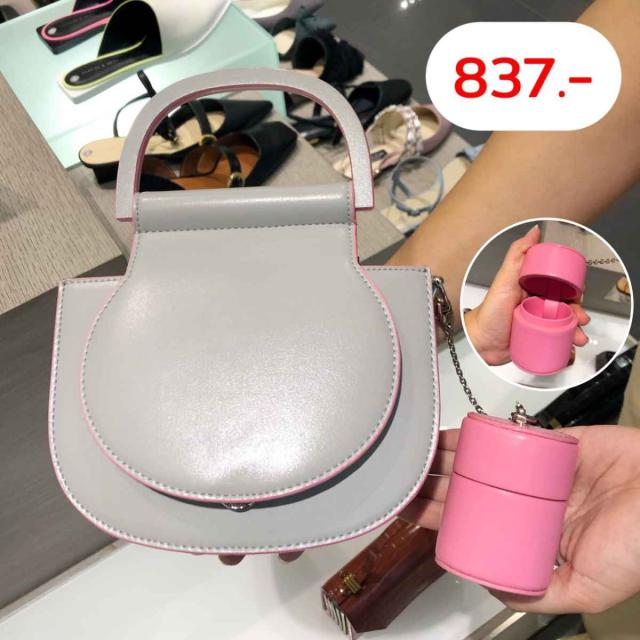handbag: (45, 170, 452, 579)
